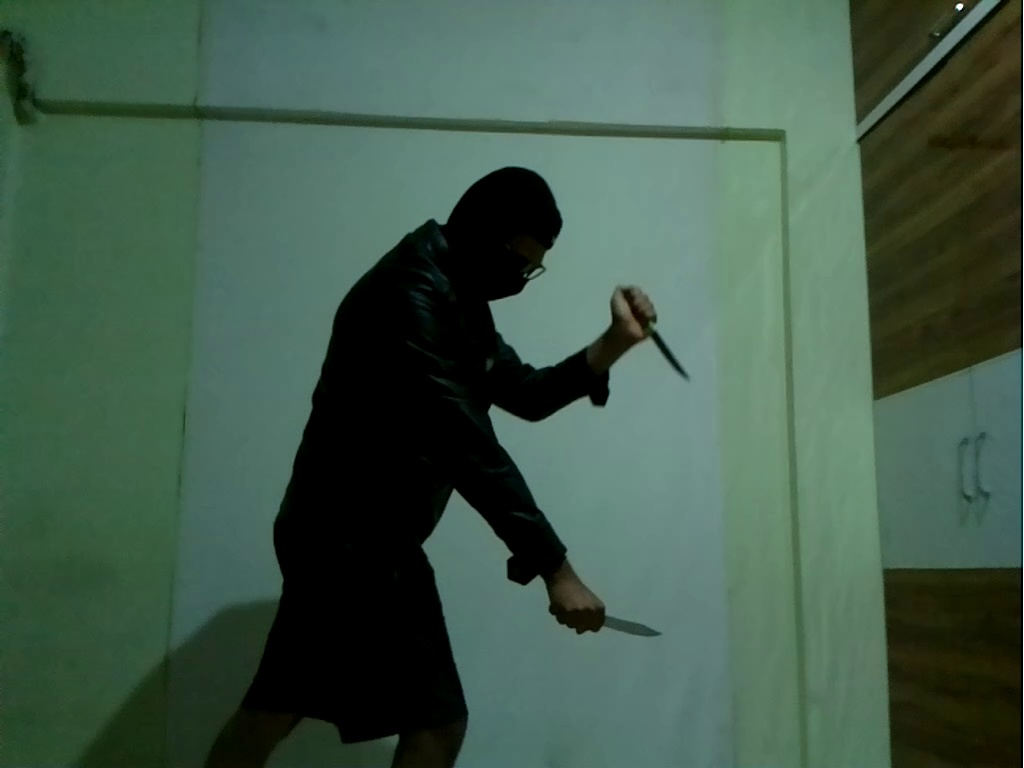knife: (633, 307, 693, 387), (590, 603, 672, 642)
